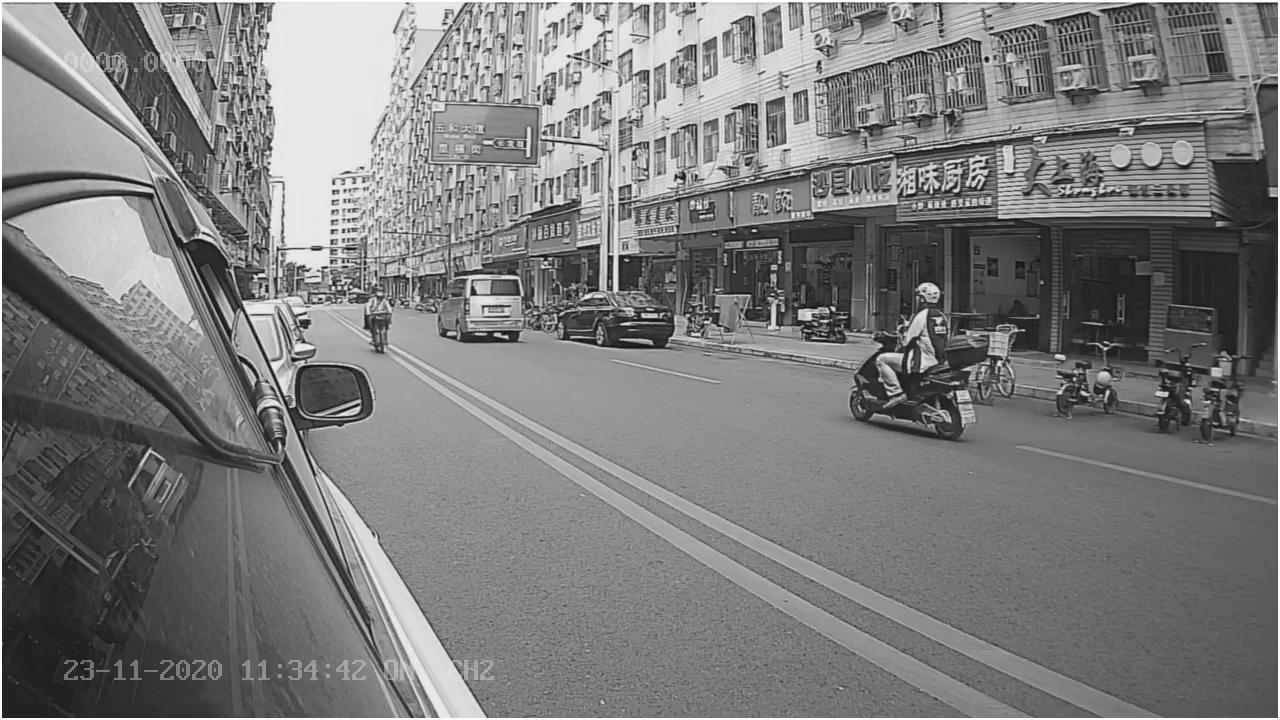person: (889, 270, 950, 351)
